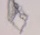microplastic: (7, 1, 28, 34)
